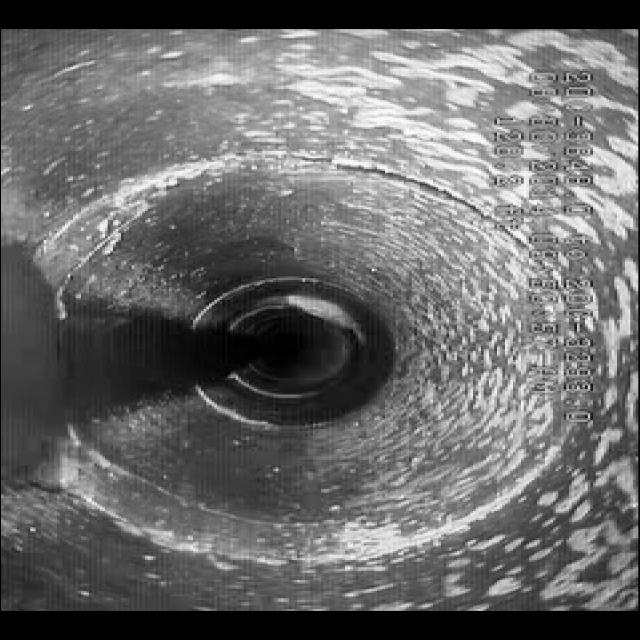Crack: (82, 448, 336, 538)
